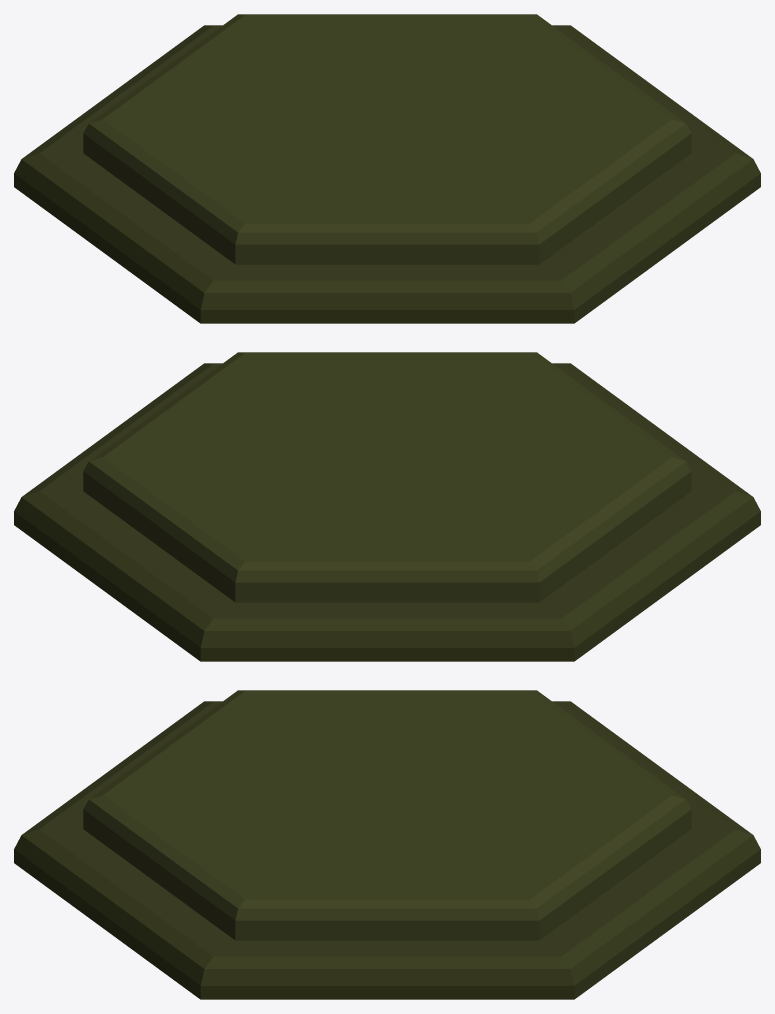
The model's file is hexagon-grass-dark.glb.
The picture shows the model from 3 angles, top to bottom: view 1: azimuth 30°, elevation 25°; view 2: azimuth 150°, elevation 25°; view 3: azimuth 270°, elevation 25°; orthographic projection.
Parts seen in each view (by area): view 1: Cylinder.001, Cylinder; view 2: Cylinder.001, Cylinder; view 3: Cylinder.001, Cylinder.
Boxes of the visible parts, bbox=[...] form: Cylinder.001: bbox=[83, 14, 691, 264]; Cylinder: bbox=[14, 25, 760, 323]; Cylinder.001: bbox=[83, 352, 691, 602]; Cylinder: bbox=[14, 363, 760, 661]; Cylinder.001: bbox=[83, 690, 691, 940]; Cylinder: bbox=[14, 701, 760, 999].
Size of the model in its own units: 4 by 0.4619 by 4.62.
